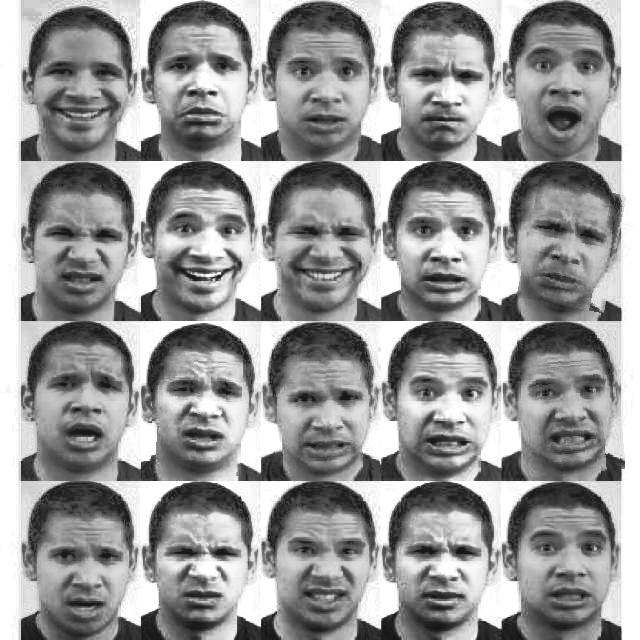sad: (520, 334, 623, 476), (273, 347, 379, 473), (522, 182, 621, 310), (151, 352, 242, 476)
